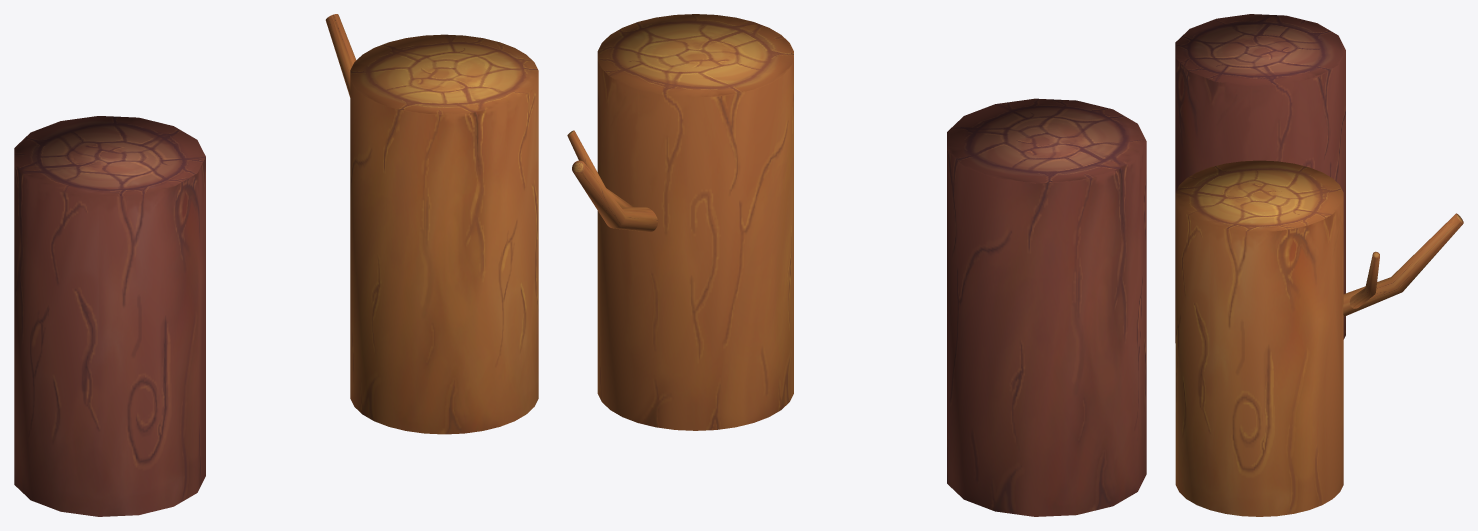
Rendered from Tronco.fbx.
3 views of the same model, side by side, from view 1: azimuth 30°, elevation 25°; view 2: azimuth 150°, elevation 25°; view 3: azimuth 270°, elevation 25° (orthographic). The views are drawn at different scales.
Visible parts, largest first — view 1: Tronco, Tronco02; view 2: Tronco, Tronco02; view 3: Tronco02, Tronco.
Boxes of the visible parts, x1=… form: Tronco: x1=14, y1=116, x2=205, y2=516; Tronco02: x1=325, y1=14, x2=538, y2=434; Tronco: x1=947, y1=98, x2=1146, y2=516; Tronco02: x1=567, y1=14, x2=793, y2=430; Tronco02: x1=1175, y1=160, x2=1463, y2=516; Tronco: x1=1175, y1=14, x2=1345, y2=342.
Size of the model in its own units: 597 by 364 by 334.
